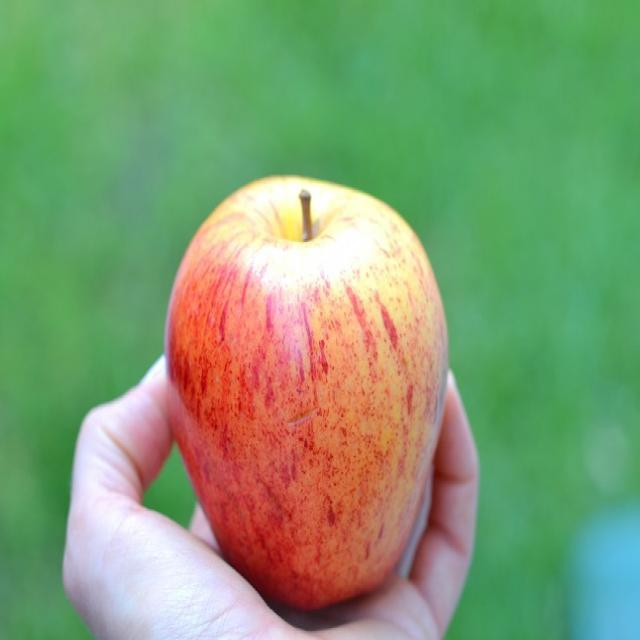Apple: (148, 167, 453, 622)
